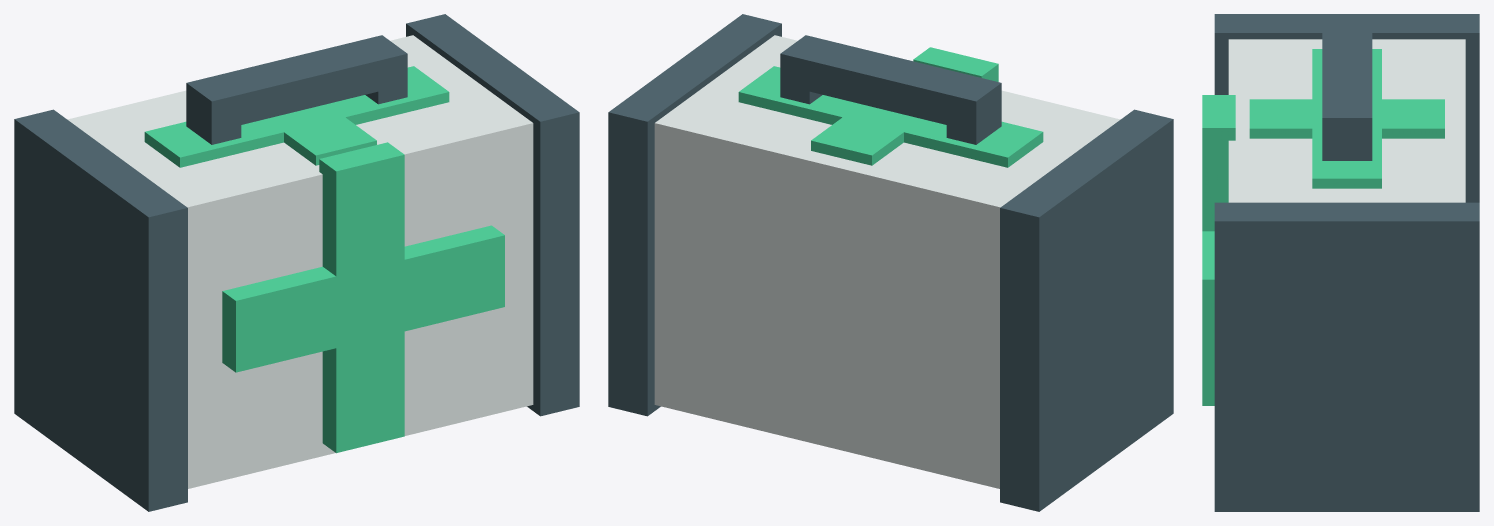
Rendered from pickup-health.glb.
3 renders of one model, left to right at view 1: azimuth 30°, elevation 25°; view 2: azimuth 150°, elevation 25°; view 3: azimuth 270°, elevation 25°, orthographic.
Parts seen in each view (by area): view 1: Case, Corner protection, Medical stripe.001, Medical stripe, Corner protection.001, Handle, Lid cross A, Lid cross B, Handle foot; view 2: Case, Corner protection, Corner protection.001, Handle, Lid cross A, Lid cross B, Medical stripe.001, Handle foot, Handle foot.001; view 3: Corner protection.001, Case, Corner protection, Handle, Lid cross B, Medical stripe.001, Lid cross A, Medical stripe, Handle foot.001.
Part boxes in pixels (bbox=[...]): Case: bbox=[67, 35, 533, 488]; Corner protection: bbox=[14, 109, 187, 511]; Medical stripe.001: bbox=[319, 142, 404, 453]; Medical stripe: bbox=[222, 225, 504, 372]; Corner protection.001: bbox=[406, 14, 579, 416]; Handle: bbox=[186, 35, 407, 131]; Lid cross A: bbox=[144, 66, 449, 167]; Lid cross B: bbox=[268, 104, 376, 165]; Handle foot: bbox=[186, 92, 241, 144]; Case: bbox=[654, 35, 1120, 488]; Corner protection: bbox=[1000, 109, 1173, 511]; Corner protection.001: bbox=[608, 14, 781, 416]; Handle: bbox=[780, 35, 1001, 131]; Lid cross A: bbox=[738, 66, 1043, 167]; Lid cross B: bbox=[811, 104, 921, 165]; Medical stripe.001: bbox=[913, 47, 998, 81]; Handle foot: bbox=[946, 94, 1001, 144]; Handle foot.001: bbox=[780, 63, 822, 104]; Corner protection.001: bbox=[1214, 202, 1479, 511]; Case: bbox=[1228, 39, 1465, 202]; Corner protection: bbox=[1214, 14, 1479, 202]; Handle: bbox=[1322, 23, 1372, 148]; Lid cross B: bbox=[1249, 99, 1444, 138]; Medical stripe.001: bbox=[1202, 95, 1235, 405]; Lid cross A: bbox=[1312, 49, 1381, 188]; Medical stripe: bbox=[1202, 231, 1214, 350]; Handle foot.001: bbox=[1322, 127, 1372, 160].
Size of the model in its own units: 1.76 by 1.33 by 0.995.
